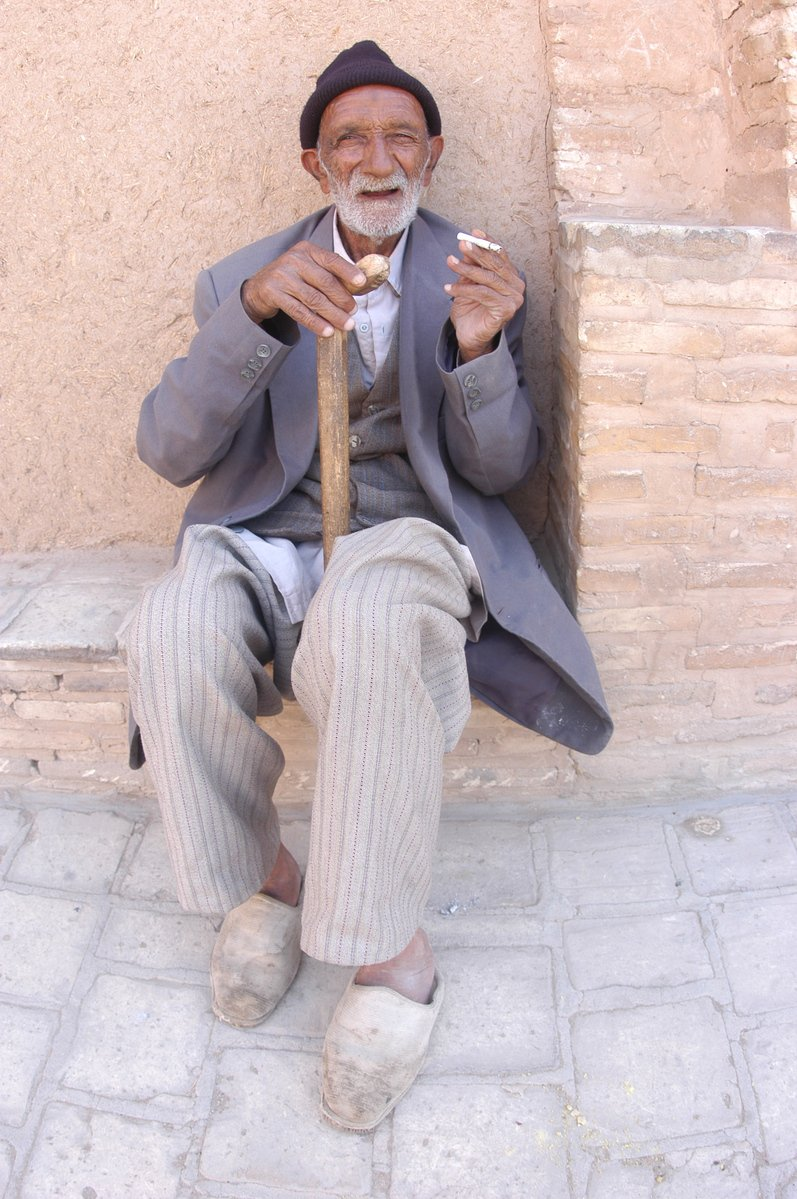cigarette: (451, 229, 507, 253)
